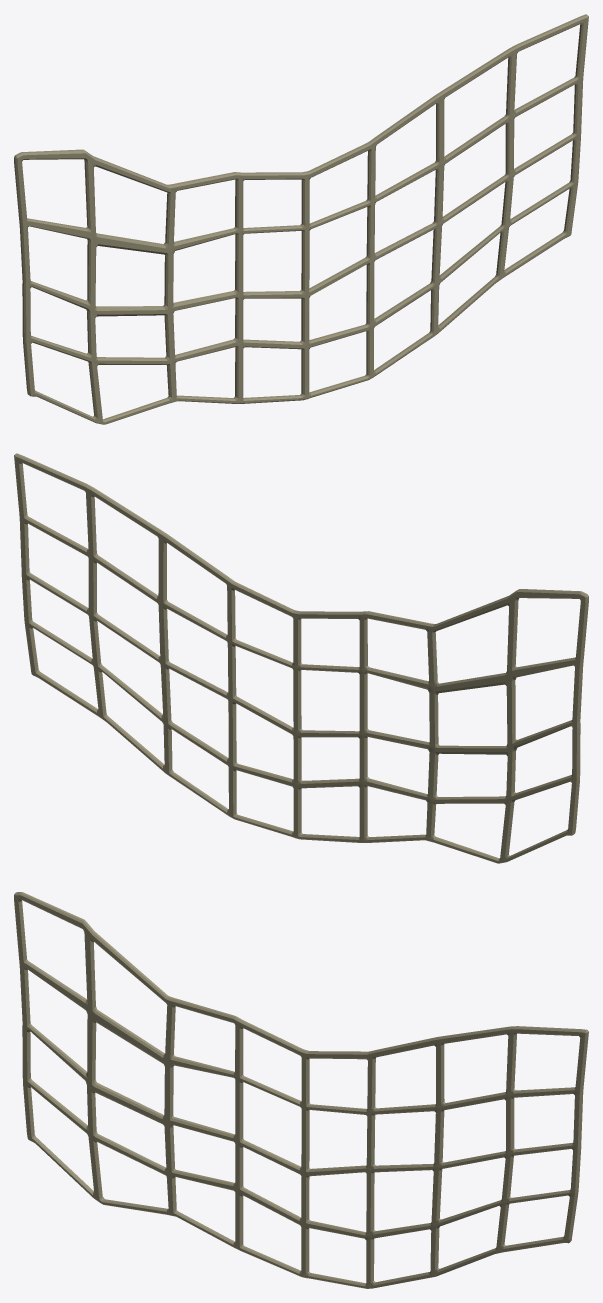
Rendered from net.fbx.
3 renders of one model, top to bottom at view 1: azimuth 30°, elevation 25°; view 2: azimuth 150°, elevation 25°; view 3: azimuth 330°, elevation 25°, orthographic.
Parts seen in each view (by area): view 1: fishnet; view 2: fishnet; view 3: fishnet.
Part boxes in pixels (x1,y1,x2,y2): fishnet: (14,14,588,424); fishnet: (14,453,588,863); fishnet: (14,892,588,1288).
Size of the model in its own units: 9.31 by 4.89 by 0.0867.
